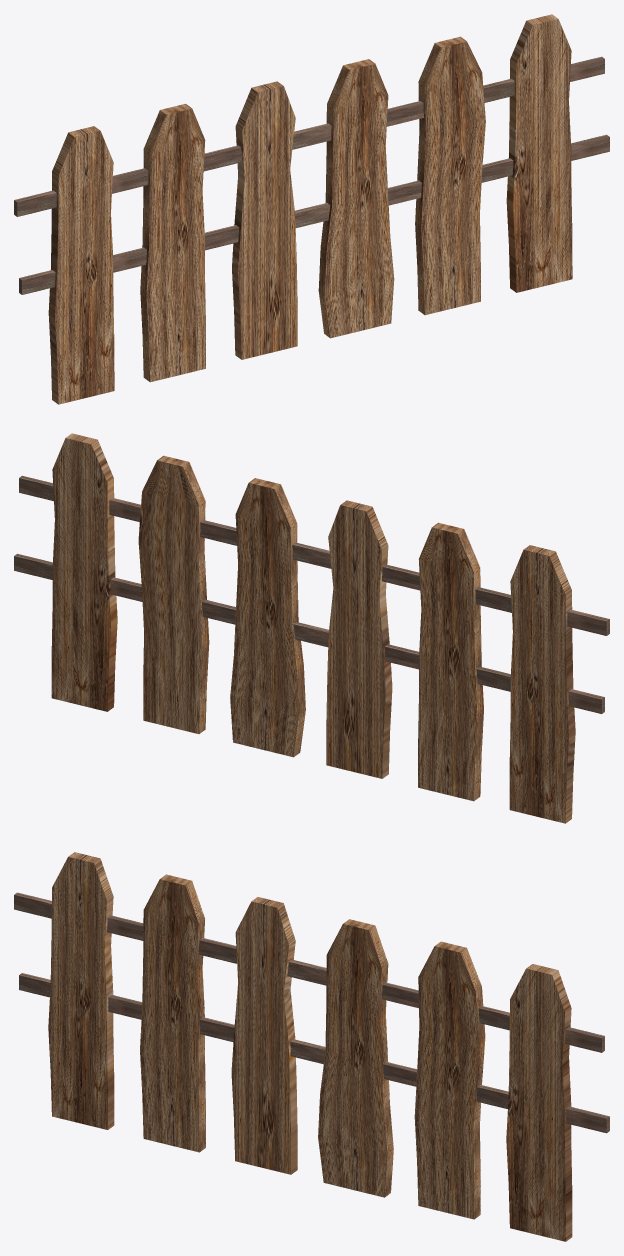
Rendered from fence.FBX.
3 views of the same model, one above another, from view 1: azimuth 30°, elevation 25°; view 2: azimuth 150°, elevation 25°; view 3: azimuth 330°, elevation 25° (orthographic).
Parts seen in each view (by area): view 1: Box005, Box004, Box003, Box008, Box007, Box006, Box001, Box002; view 2: Box005, Box004, Box003, Box008, Box007, Box006, Box001, Box002; view 3: Box005, Box004, Box008, Box003, Box007, Box006, Box001, Box002.
Part boxes in pixels (x1=…): Box005: x1=318, y1=59, x2=394, y2=338; Box004: x1=415, y1=36, x2=485, y2=315; Box003: x1=506, y1=14, x2=572, y2=292; Box008: x1=48, y1=126, x2=114, y2=404; Box007: x1=140, y1=103, x2=205, y2=382; Box006: x1=232, y1=81, x2=297, y2=359; Box001: x1=14, y1=56, x2=604, y2=216; Box002: x1=19, y1=134, x2=609, y2=294; Box005: x1=230, y1=478, x2=305, y2=757; Box004: x1=138, y1=455, x2=209, y2=733; Box003: x1=51, y1=433, x2=117, y2=711; Box008: x1=509, y1=545, x2=575, y2=823; Box007: x1=418, y1=522, x2=483, y2=801; Box006: x1=326, y1=500, x2=392, y2=778; Box001: x1=19, y1=475, x2=609, y2=635; Box002: x1=14, y1=553, x2=604, y2=713; Box005: x1=318, y1=919, x2=393, y2=1197; Box004: x1=414, y1=941, x2=485, y2=1219; Box008: x1=48, y1=852, x2=114, y2=1129; Box003: x1=506, y1=964, x2=572, y2=1241; Box007: x1=140, y1=874, x2=205, y2=1152; Box006: x1=231, y1=897, x2=297, y2=1174; Box001: x1=14, y1=892, x2=604, y2=1052; Box002: x1=19, y1=973, x2=609, y2=1133.
Size of the model in its own units: 167 by 70.87 by 3.15.
